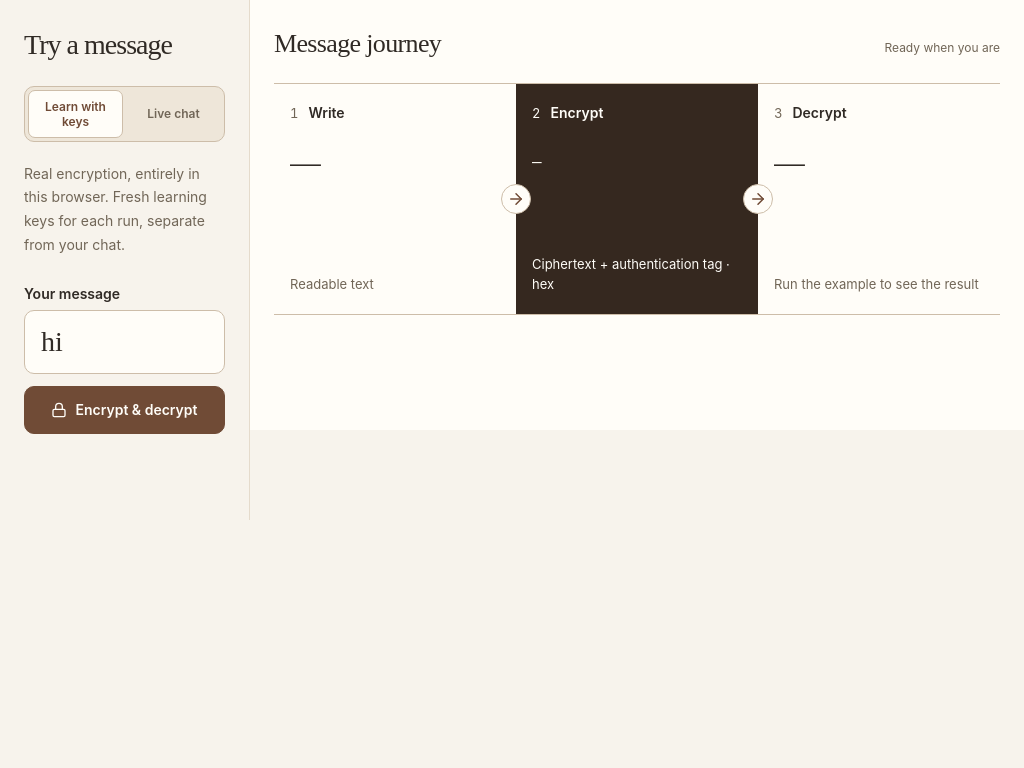
Scenario: simple encryption example › starts with a local hi example and shows actual returned ciphertext/key without sending a chat
The width and height of the screenshot is (1024, 768).
Later steps or results of the test are not shown.
Expected: the field labelled "Your message" holds "hi", top-left (24, 310), bottom-right (225, 374)
Click the button "Encrypt & decrypt": (124, 410) top-left (24, 386), bottom-right (225, 434)
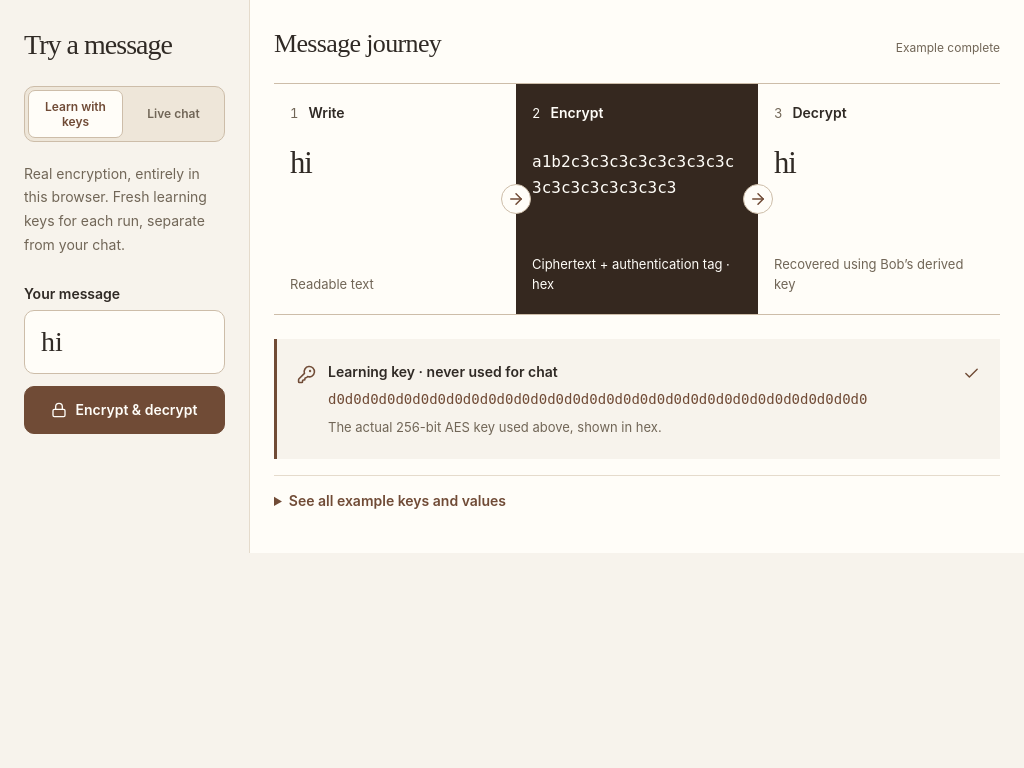
Expected: the text "hi" is shown 2 times, top-left (290, 146), bottom-right (312, 180); top-left (774, 146), bottom-right (796, 180)
Expected: the text "Learning key · never used for chat" is shown, top-left (328, 363), bottom-right (558, 380)
